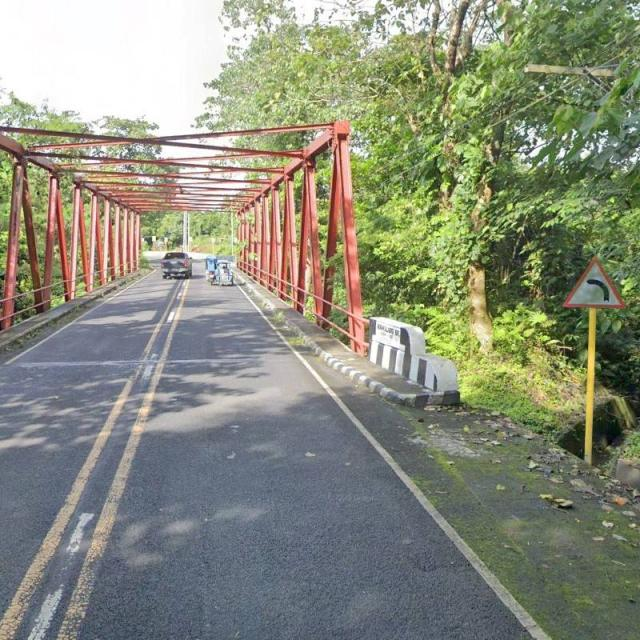warn_left_curve: (562, 255, 626, 309)
